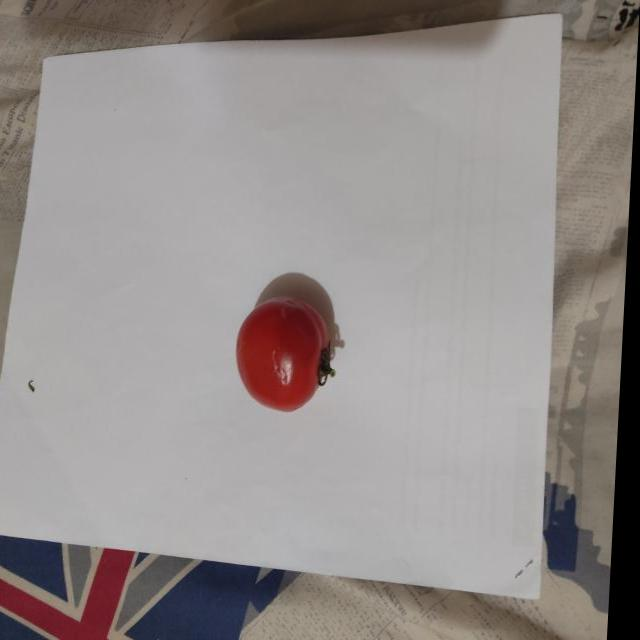kirmizi: (208, 264, 371, 438)
